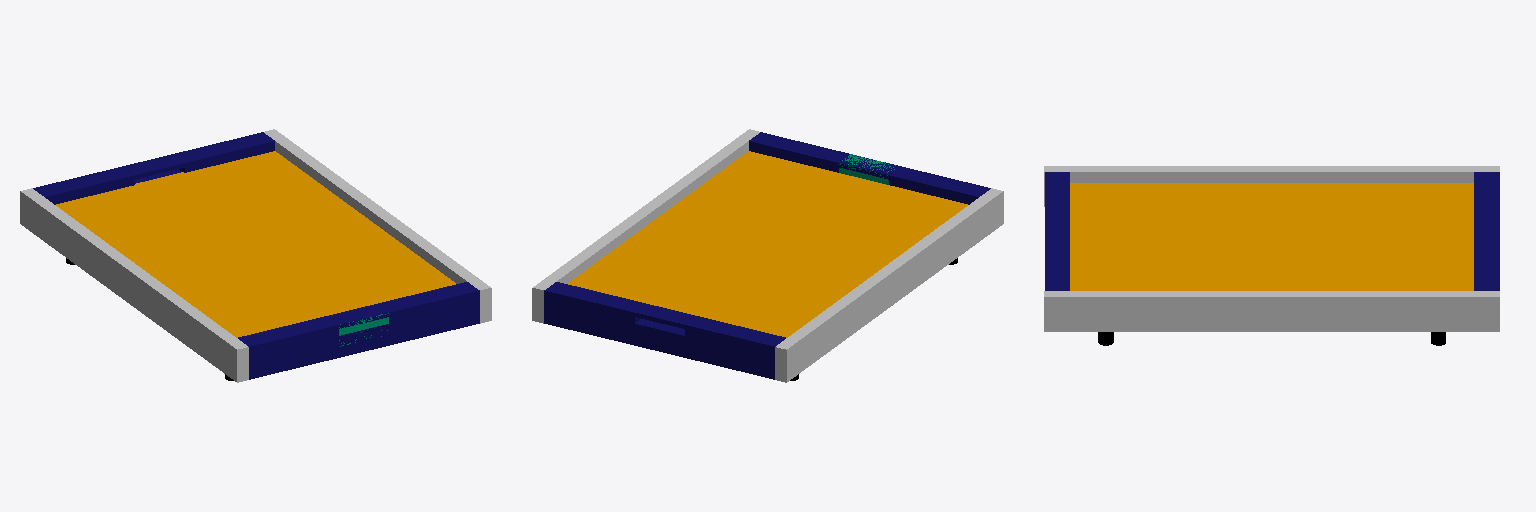
URDF robot description (mesa):
<?xml version="1.0"?>
<robot name="mesa">

  <material name="black">
    <color rgba="0 0 0 1"/>
  </material>                 

  <material name="blue">
    <color rgba="0.1 0.1 0.44 1"/>
  </material>

  <material name="gris">
    <color rgba="0.80 0.80 0.80 1"/>
  </material>     

  <link name="base_link">
    <visual>
      <geometry>
        <box size="11 16 0.1"/>
      </geometry>
    </visual>
    <collision>
      <geometry>
        <box size="11 16 0.1"/>
      </geometry>
    </collision>
    <inertial>
      <mass value="10"/>
      <inertia ixx="1.0" ixy="1.0" ixz="1.0" iyy="1.0" iyz="1.0" izz="1.0"/>
    </inertial>
    <contact> 
            <lateral_friction value="0"/>
            <restitution value="0.0" />
    </contact>

  </link>

  <link name="leg_1">
    <visual>
      <geometry>
        <cylinder length="2" radius="0.3"/>
        
      </geometry>
      <origin rpy="0 0 0" xyz="4.9 -6.5 -1.0"/> 
      <material name="black"/>
    </visual>
    <collision>
      <geometry>
        <cylinder length="2" radius="0.3"/>
      </geometry>
      <origin rpy="0 0 0" xyz="4.9 -6.5 -1.0"/> 
    </collision>
    <inertial>
      <mass value="10"/>
      <inertia ixx="1.0" ixy="0.0" ixz="0.0" iyy="1.0" iyz="0.0" izz="1.0"/>
    </inertial>
  </link>

  <link name="leg_2">
    <visual>
      <geometry>
        <cylinder length="2" radius="0.3"/>
      </geometry>
      <origin rpy="0 0 0" xyz="4.9 6.5 -1.0"/>  
      <material name="black"/>
    </visual>
    <collision>
      <geometry>
       <cylinder length="2" radius="0.3"/>
      </geometry>
      <origin rpy="0 0 0" xyz="4.9 6.5 -1.0"/>  
    </collision>
    <inertial>
      <mass value="10"/>
      <inertia ixx="1.0" ixy="0.0" ixz="0.0" iyy="1.0" iyz="0.0" izz="1.0"/>
    </inertial>
    
  </link>

  <link name="leg_3">
    <visual>
      <geometry>
        <cylinder length="2" radius="0.3"/>
      </geometry>
      <origin rpy="0 0 0" xyz="-4.9 -6.5 -1.0"/> 
      <material name="black"/>
    </visual>
    <collision>
      <geometry>
        <cylinder length="2" radius="0.3"/>
      </geometry>
      <origin rpy="0 0 0" xyz="-4.9 -6.5 -1.0"/>  
    </collision>
    <inertial>
      <mass value="10"/>
      <inertia ixx="1.0" ixy="0.0" ixz="0.0" iyy="1.0" iyz="0.0" izz="1.0"/>
    </inertial>
  </link>

  <link name="leg_4">
    <visual>
      <geometry>
        <cylinder length="2" radius="0.3"/>
      </geometry>
      <origin rpy="0 0 0" xyz="-4.9 6.5 -1.0"/>  
      <material name="black"/>
    </visual>
    <collision>
      <geometry>
        <cylinder length="2" radius="0.3"/>
      </geometry>
      <origin rpy="0 0 0" xyz="-4.9 6.5 -1.0"/>  
    </collision>   
    <inertial>
      <mass value="10"/>
      <inertia ixx="1.0" ixy="0.0" ixz="0.0" iyy="1.0" iyz="0.0" izz="1.0"/>
    </inertial> 
  </link>


  <link name="wall_leg1_leg4">
    <visual>
      <geometry>
        <box size="9.5 0.3 1.8"/>
      </geometry>
      <origin rpy="0 0 0" xyz="0 6.5 -0.95"/>  
      <material name="black"/>
    </visual>
    <collision>
      <geometry>
       <box size="9.5 0.3 1.8"/>
      </geometry>
      <origin rpy="0 0 0" xyz="0 6.5 -0.95"/>  
    </collision>
    <inertial>
      <mass value="10"/>
      <inertia ixx="1.0" ixy="0.0" ixz="0.0" iyy="1.0" iyz="0.0" izz="1.0"/>
    </inertial>
    
  </link>


  <link name="wall_leg2_leg3">
    <visual>
      <geometry>
        <box size="9.5 0.3 1.8"/>
      </geometry>
      <origin rpy="0 0 0" xyz="0 -6.5 -0.95"/>  
      <material name="black"/>
    </visual>
    <collision>
      <geometry>
       <box size="9.5 0.3 1.8"/>
      </geometry>
      <origin rpy="0 0 0" xyz="0 -6.5 -0.95"/>  
    </collision>
    <inertial>
      <mass value="10"/>
      <inertia ixx="1.0" ixy="0.0" ixz="0.0" iyy="1.0" iyz="0.0" izz="1.0"/>
    </inertial>
  </link>

  <link name="side_wall_1">
    <visual>
      <geometry>
        <box size="0.56 1.5 17.8"/>
      </geometry>
      <origin rpy="1.570796 0 0" xyz="5.75 0.0 -0.25"/>  
      <material name="gris"/>
    </visual>
    <collision>
      <geometry>
        <box size="0.56 1.5 17.8"/>
      </geometry>
      <origin rpy="1.570796 0 0" xyz="5.75 0.0 -0.25"/>  
    </collision>
    <inertial>
      <mass value="10"/>
      <inertia ixx="1.0" ixy="0.0" ixz="0.0" iyy="1.0" iyz="0.0" izz="1.0"/>
    </inertial>
    <contact> 
            <lateral_friction value="0"/>
            <restitution value="1.15" />
    </contact>
  </link>

  <link name="side_wall_2">
    <visual>
      <geometry>
        <box size="0.56 1.5 17.8"/>
      </geometry>
      <origin rpy="1.570796 0 0" xyz="-5.75 0.0 -0.25"/>  
      <material name="gris"/>
    </visual> 
    <collision>
      <geometry>
        <box size="0.56 1 17.8"/>
      </geometry>
      <origin rpy="1.570796 0 0" xyz="-5.75 0.0 -0.25"/>  
    </collision>
    <inertial>
      <mass value="10"/>
      <inertia ixx="1.0" ixy="0.0" ixz="0.0" iyy="1.0" iyz="0.0" izz="1.0"/>
    </inertial>
    <contact> 
            <lateral_friction value="0"/>
            <restitution value="1.15" />
    </contact>
  </link>

  <link name="side_wall_3_1">
    <visual>
      <geometry>
        <box size="1.5 1 4.28"/>
      </geometry>
      <origin rpy="0 1.570796 0" xyz="-3.33 -8.39 -0.25"/>  
      <material name="blue"/>
    </visual>
    <collision>
      <geometry>
        <box size="1.5 1 4.28"/>
      </geometry>
      <origin rpy="0 1.570796 0" xyz="-3.33 -8.39 -0.25"/>  
      <material name="blue"/>
    </collision>
    <inertial>
      <mass value="10"/>
      <inertia ixx="1.0" ixy="0.0" ixz="0.0" iyy="1.0" iyz="0.0" izz="1.0"/>
    </inertial>
    <contact> 
            <lateral_friction value="0"/>
            <restitution value="1.15" />
    </contact>
  </link>

  <link name="side_wall_3_2">
    <visual>
      <geometry>
        <box size="1.5 1 4.28"/>
      </geometry>
      <origin rpy="0 1.570796 0" xyz="3.33 -8.39 -0.25"/>  
      <material name="blue"/>
    </visual>
    <collision>
      <geometry>
        <box size="1.5 1 4.28"/>
      </geometry>
      <origin rpy="0 1.570796 0" xyz="3.33 -8.39 -0.25"/>  
      <material name="blue"/>
    </collision>
    <inertial>
      <mass value="10"/>
      <inertia ixx="1.0" ixy="0.0" ixz="0.0" iyy="1.0" iyz="0.0" izz="1.0"/>
    </inertial>
    <contact> 
            <lateral_friction value="0"/>
            <restitution value="1.15" />
    </contact>
  </link>

  <link name="side_wall_3_3">
    <visual>
      <geometry>
        <box size="0.20 1 2.4"/>
      </geometry>
      <origin rpy="0 1.570796 0" xyz="0. -8.39 0.40"/>  
      <material name="blue"/>
    </visual>
    <collision>
      <geometry>
        <box size="0.20 1.0 2.4"/>
      </geometry>
      <origin rpy="0 1.570796 0" xyz="0. -8.39 0.40"/>  
    </collision>
    <inertial>
      <mass value="10"/>
      <inertia ixx="1.0" ixy="0.0" ixz="0.0" iyy="1.0" iyz="0.0" izz="1.0"/>
    </inertial>
    <contact> 
            <lateral_friction value="0"/>
            <restitution value="1.15" />
    </contact>
  </link>

  <link name="side_wall_3_4">
    <visual>
      <geometry>
        <box size="1.0 1 2.4"/>
      </geometry>
      <origin rpy="0 1.570796 0" xyz="0. -8.39 -0.5"/>  
      <material name="blue"/>
    </visual>
    <collision>
      <geometry>
        <box size="1.0 1 2.4"/>
      </geometry>
      <origin rpy="0 1.570796 0" xyz="0. -8.39 -0.5"/>  
    </collision>
    <inertial>
      <mass value="10"/>
      <inertia ixx="1.0" ixy="0.0" ixz="0.0" iyy="1.0" iyz="0.0" izz="1.0"/>
    </inertial>
    <contact> 
            <lateral_friction value="0"/>
            <restitution value="1.15" />
    </contact>
  </link>

  <link name="side_wall_4_1">
    <visual>
      <geometry>
        <box size="1.5 1.0 4.28"/>
      </geometry>
      <origin rpy="0 1.570796 0" xyz="-3.33 8.39 -0.25"/>  
      <material name="blue"/>
    </visual>
    <collision>
      <geometry>
        <box size="1.5 1.0 4.28"/>
      </geometry>
      <origin rpy="0 1.570796 0" xyz="-3.33 8.39 -0.25"/>  
    </collision>
    <inertial>
      <mass value="10"/>
      <inertia ixx="1.0" ixy="0.0" ixz="0.0" iyy="1.0" iyz="0.0" izz="1.0"/>
    </inertial>
    <contact> 
            <lateral_friction value="0"/>
            <restitution value="1.15" />
    </contact>
  </link>

  <link name="side_wall_4_2">
    <visual>
      <geometry>
        <box size="1.5 1.0 4.28"/>
      </geometry>
      <origin rpy="0 1.570796 0" xyz="3.33 8.39 -0.25"/>  
      <material name="blue"/>
    </visual>
    <collision>
      <geometry>
        <box size="1.5 1.0 4.28"/>
      </geometry>
      <origin rpy="0 1.570796 0" xyz="3.33 8.39 -0.25"/>  
      <material name="blue"/>
    </collision>
    <inertial>
      <mass value="10"/>
      <inertia ixx="1.0" ixy="0.0" ixz="0.0" iyy="1.0" iyz="0.0" izz="1.0"/>
    </inertial>
    <contact> 
            <lateral_friction value="0"/>
            <restitution value="1.15" />
    </contact>
  </link>

  <link name="side_wall_4_3">
    <visual>
      <geometry>
        <box size="0.2 1.0 2.4"/>
      </geometry>
      <origin rpy="0 1.570796 0" xyz="0. 8.39 0.40"/>  
      <material name="blue"/>
    </visual>
    <collision>
      <geometry>
        <box size="0.2 1.0 2.4"/>
      </geometry>
      <origin rpy="0 1.570796 0" xyz="0. 8.39 0.40"/>  
      <material name="blue"/>
    </collision>
    <inertial>
      <mass value="10"/>
      <inertia ixx="1.0" ixy="0.0" ixz="0.0" iyy="1.0" iyz="0.0" izz="1.0"/>
    </inertial>
        <contact> 
            <lateral_friction value="0"/>
            <restitution value="1.15" />
    </contact>
  </link>

  <link name="side_wall_4_4">
    <visual>
      <geometry>
        <box size="1.0 1.0 2.4"/>
      </geometry>
      <origin rpy="0 1.570796 0" xyz="0. 8.39 -0.5"/>  
      <material name="blue"/>
    </visual>
    <collision>
      <geometry>
        <box size="1.0 1.0 2.4"/>
      </geometry>
      <origin rpy="0 1.570796 0" xyz="0. 8.39 -0.5"/>  
    </collision>
    <inertial>
      <mass value="10"/>
      <inertia ixx="1.0" ixy="0.0" ixz="0.0" iyy="1.0" iyz="0.0" izz="1.0"/>
    </inertial>
    <contact> 
            <lateral_friction value="0"/>
            <restitution value="1.15" />
    </contact>
  </link>

  <link name="limit_right">
    <visual>
      <geometry>
        <box size="0 0 0"/>
      </geometry>
      <origin rpy="0 1.570796 0" xyz="0. 9.5 0.0"/>  
    </visual>
    <collision>
      <geometry>
        <box size="1.0 1.0 2.4"/>
      </geometry>
      <origin rpy="0 1.570796 0" xyz="0. 9.5 0.0"/>  
    </collision>
    <inertial>
      <mass value="10"/>
      <inertia ixx="1.0" ixy="0.0" ixz="0.0" iyy="1.0" iyz="0.0" izz="1.0"/>
    </inertial>
    <contact> 
            <lateral_friction value="0"/>
            <restitution value="0.5" />
    </contact>
  </link>

  <link name="limit_left">
    <visual>
      <geometry>
        <box size="1.0 1.0 2.4"/>
      </geometry>
      <origin rpy="0 1.570796 0" xyz="0. -8.39 0.0"/>  
    </visual>
    <collision>
      <geometry>
        <box size="1.0 1.0 2.4"/>
      </geometry>
      <origin rpy="0 1.570796 0" xyz="0. -8.39 0.0"/>  
    </collision>
    <inertial>
      <mass value="10"/>
      <inertia ixx="1.0" ixy="0.0" ixz="0.0" iyy="1.0" iyz="0.0" izz="1.0"/>
    </inertial>
    <contact> 
            <lateral_friction value="0"/>
            <restitution value="1.15" />
    </contact>
  </link>

  <joint name="base_to_leg_1" type="fixed">
    <parent link="base_link"/>
    <child link="leg_1"/>
    <origin xyz="0 0 0"/>
  </joint>

  <joint name="base_to_leg_2" type="fixed">
    <parent link="base_link"/>
    <child link="leg_2"/>
    <origin xyz="0 0 0"/>
  </joint>

  <joint name="base_to_leg_3" type="fixed">
    <parent link="base_link"/>
    <child link="leg_3"/>
    <origin xyz="0 0 0"/>
  </joint>

  <joint name="base_to_leg_4" type="fixed">
    <parent link="base_link"/>
    <child link="leg_4"/>
    <origin xyz="0 0 0"/>
  </joint>

  <joint name="base_to_wall_leg1_leg4" type="fixed">
    <parent link="base_link"/>
    <child link="wall_leg1_leg4"/>
    <origin xyz="0 0 0"/>
  </joint>

  <joint name="base_to_wall_leg2_leg3" type="fixed">
    <parent link="base_link"/>
    <child link="wall_leg2_leg3"/>
    <origin xyz="0 0 0"/>
  </joint>

  <joint name="base_to_side_wall_1" type="fixed">
    <parent link="base_link"/>
    <child link="side_wall_1"/>
    <origin xyz="0 0 0"/>
  </joint>

  <joint name="base_to_side_wall_2" type="fixed">
    <parent link="base_link"/>
    <child link="side_wall_2"/>
    <origin xyz="0 0 0"/>
  </joint>

  <joint name="base_to_side_wall_3_1" type="fixed">
    <parent link="base_link"/>
    <child link="side_wall_3_1"/>
    <origin xyz="0 0 0"/>
  </joint>

  <joint name="base_to_side_wall_3_2" type="fixed">
    <parent link="base_link"/>
    <child link="side_wall_3_2"/>
    <origin xyz="0 0 0"/>
  </joint>

  <joint name="base_to_side_wall_3_3" type="fixed">
    <parent link="base_link"/>
    <child link="side_wall_3_3"/>
    <origin xyz="0 0 0"/>
  </joint>

  <joint name="base_to_side_wall_3_4" type="fixed">
    <parent link="base_link"/>
    <child link="side_wall_3_4"/>
    <origin xyz="0 0 0"/>
  </joint>

  <joint name="base_to_side_wall_4_1" type="fixed">
    <parent link="base_link"/>
    <child link="side_wall_4_1"/>
    <origin xyz="0 0 0"/>
  </joint>

  <joint name="base_to_side_wall_4_2" type="fixed">
    <parent link="base_link"/>
    <child link="side_wall_4_2"/>
    <origin xyz="0 0 0"/>
  </joint>

  <joint name="base_to_side_wall_4_3" type="fixed">
    <parent link="base_link"/>
    <child link="side_wall_4_3"/>
    <origin xyz="0 0 0"/>
  </joint>

  <joint name="base_to_side_wall_4_4" type="fixed">
    <parent link="base_link"/>
    <child link="side_wall_4_4"/>
    <origin xyz="0 0 0"/>
  </joint>

  

  <joint name="base_to_limit_left" type="fixed">
    <parent link="base_link"/>
    <child link="limit_left"/>
    <origin xyz="0 0 0"/>
  </joint>

  <joint name="base_to_limit_right" type="fixed">
    <parent link="base_link"/>
    <child link="limit_right"/>
    <origin xyz="0 0 0"/>
  </joint>
</robot>

--- Render facts (derived) ---
3 views of the same robot in one strip: view 1: azimuth 30°, elevation 25°; view 2: azimuth 150°, elevation 25°; view 3: azimuth 270°, elevation 25° (orthographic).
Model mesa with 19 links and 18 joints (18 fixed), rooted at base_link, posed every joint at zero.
Links seen in each view (by area): view 1: base_link, side_wall_2, side_wall_1, side_wall_3_2, side_wall_3_1, side_wall_4_2, side_wall_4_1, side_wall_3_4, side_wall_4_3, side_wall_3_3; view 2: base_link, side_wall_2, side_wall_1, side_wall_4_2, side_wall_4_1, side_wall_3_2, side_wall_3_1, side_wall_4_4, side_wall_4_3, side_wall_3_3; view 3: base_link, side_wall_1, side_wall_2, side_wall_4_1, side_wall_4_2, side_wall_3_1, side_wall_3_2, side_wall_4_3, side_wall_3_3.
Boxes of the visible links, box(x1,y1,x2,y2) form: base_link: box(56, 151, 455, 337); side_wall_2: box(20, 188, 248, 382); side_wall_1: box(264, 129, 491, 323); side_wall_3_2: box(378, 282, 479, 345); side_wall_3_1: box(238, 316, 338, 379); side_wall_4_2: box(174, 132, 274, 172); side_wall_4_1: box(33, 166, 134, 204); side_wall_3_4: box(339, 324, 389, 357); side_wall_4_3: box(123, 154, 184, 179); side_wall_3_3: box(328, 304, 389, 328); base_link: box(568, 151, 967, 337); side_wall_2: box(775, 188, 1003, 382); side_wall_1: box(532, 129, 759, 323); side_wall_4_2: box(544, 282, 645, 344); side_wall_4_1: box(685, 316, 785, 379); side_wall_3_2: box(749, 132, 849, 172); side_wall_3_1: box(889, 166, 990, 204); side_wall_4_4: box(634, 319, 684, 357); side_wall_4_3: box(634, 304, 695, 328); side_wall_3_3: box(839, 155, 900, 179); base_link: box(1070, 183, 1473, 290); side_wall_1: box(1044, 291, 1499, 331); side_wall_2: box(1044, 166, 1499, 206); side_wall_4_1: box(1474, 172, 1499, 218); side_wall_4_2: box(1474, 244, 1499, 290); side_wall_3_1: box(1045, 172, 1069, 218); side_wall_3_2: box(1045, 244, 1069, 290); side_wall_4_3: box(1474, 219, 1499, 243); side_wall_3_3: box(1045, 219, 1069, 243).
Bounding box of the posed robot: 12.06 × 18.4 × 2.5 m (x, y, z).
Geometry: primitives only (box / cylinder / sphere), no mesh files.